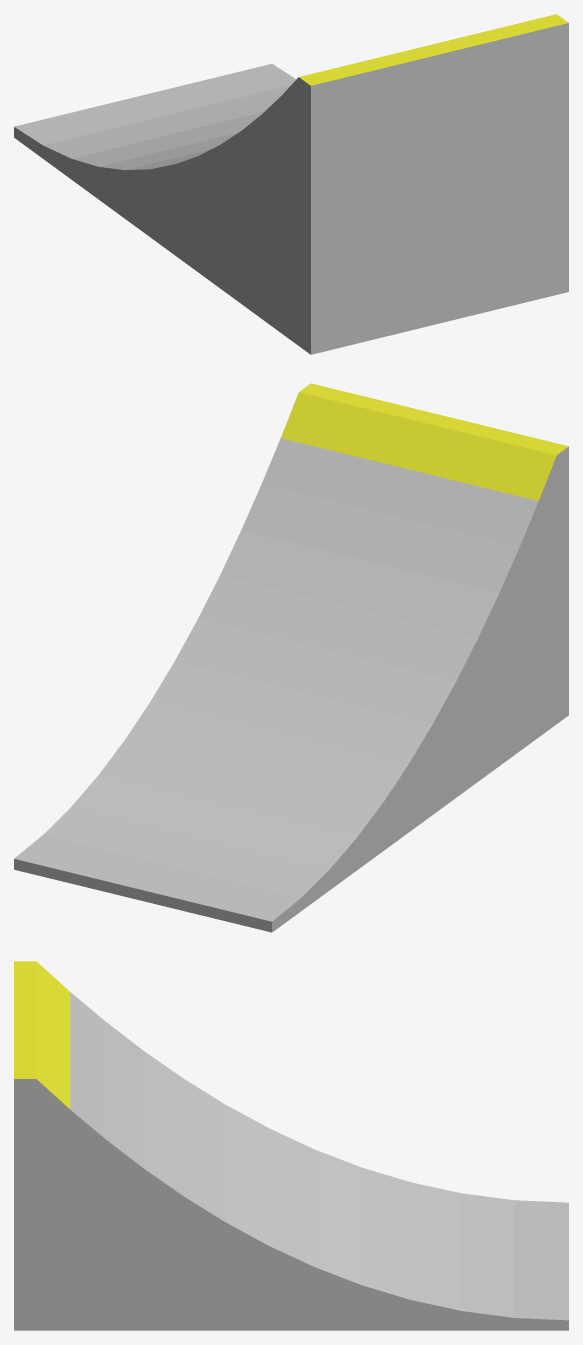
Rendered from StepUpLow_10x20x10.fbx.
3 views of the same model, one above another, from view 1: azimuth 30°, elevation 25°; view 2: azimuth 150°, elevation 25°; view 3: azimuth 270°, elevation 25° (orthographic). The views are drawn at different scales.
Visible parts, largest first — view 1: StepUpLow_10x20x10; view 2: StepUpLow_10x20x10; view 3: StepUpLow_10x20x10.
Part boxes in pixels (<box>): StepUpLow_10x20x10: <box>14,14,568,354</box>; StepUpLow_10x20x10: <box>14,383,568,932</box>; StepUpLow_10x20x10: <box>14,961,568,1330</box>.
Size of the model in its own units: 10.05 by 20.02 by 10.01.
